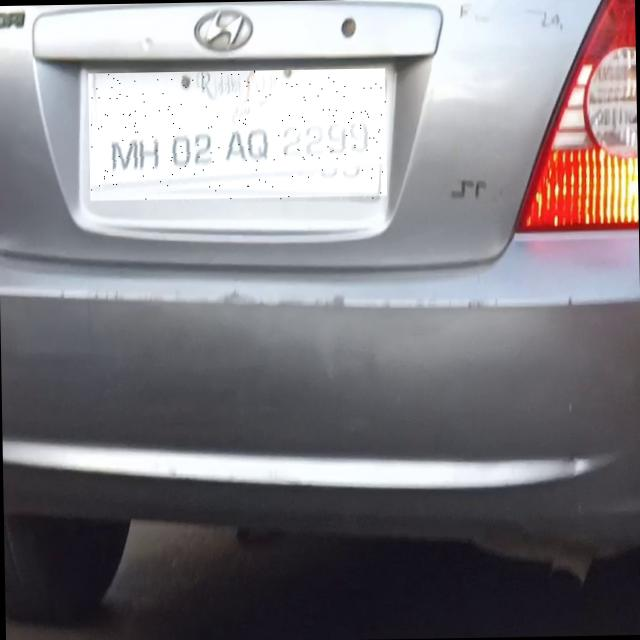Plate: (89, 70, 388, 205)
